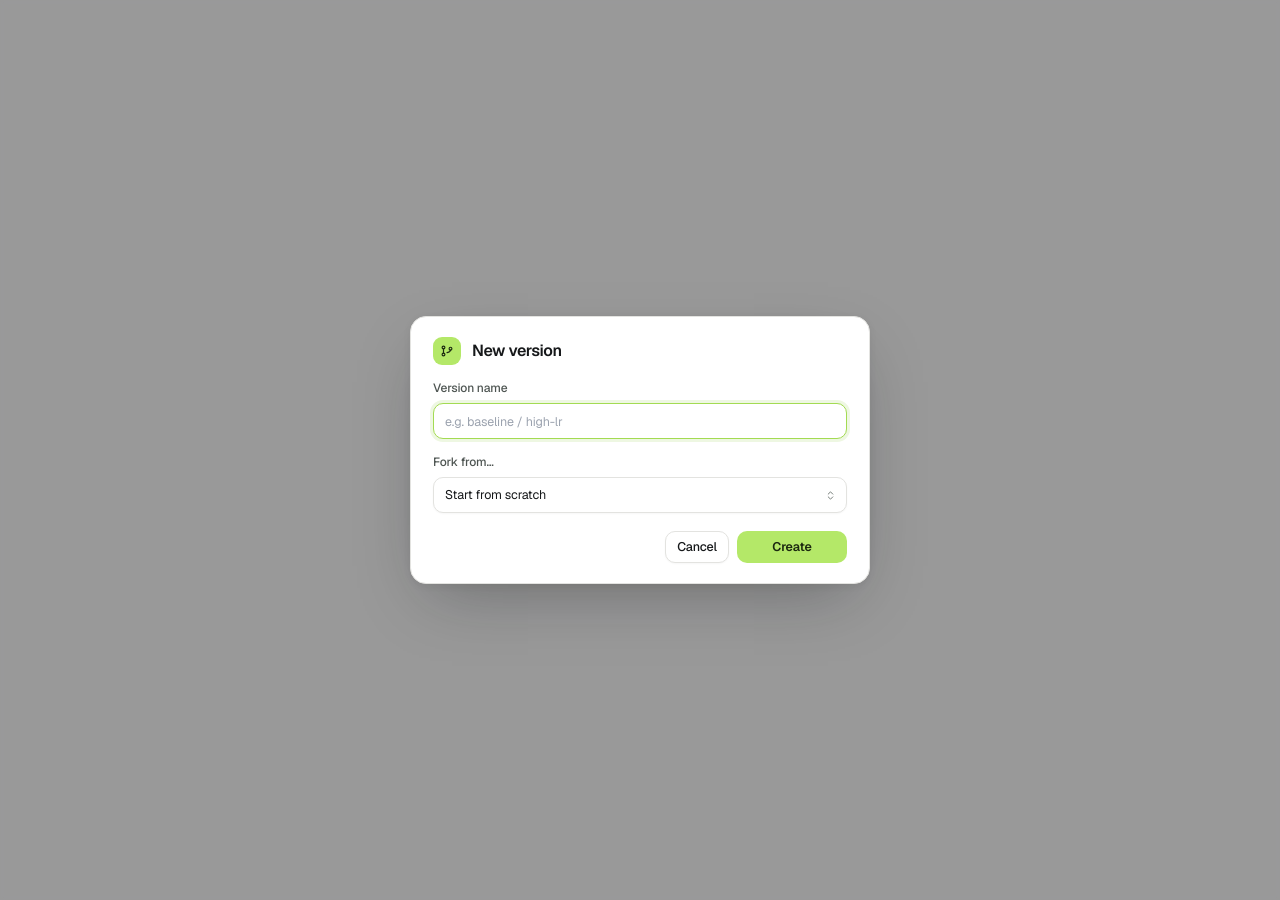
NewVersionDialog (PP10.1) › rejects duplicate label
Type "baseline" into the field with placeholder "e.g. baseline / high-lr".
click(640, 421); type("baseline")  # box [433,403,847,439]
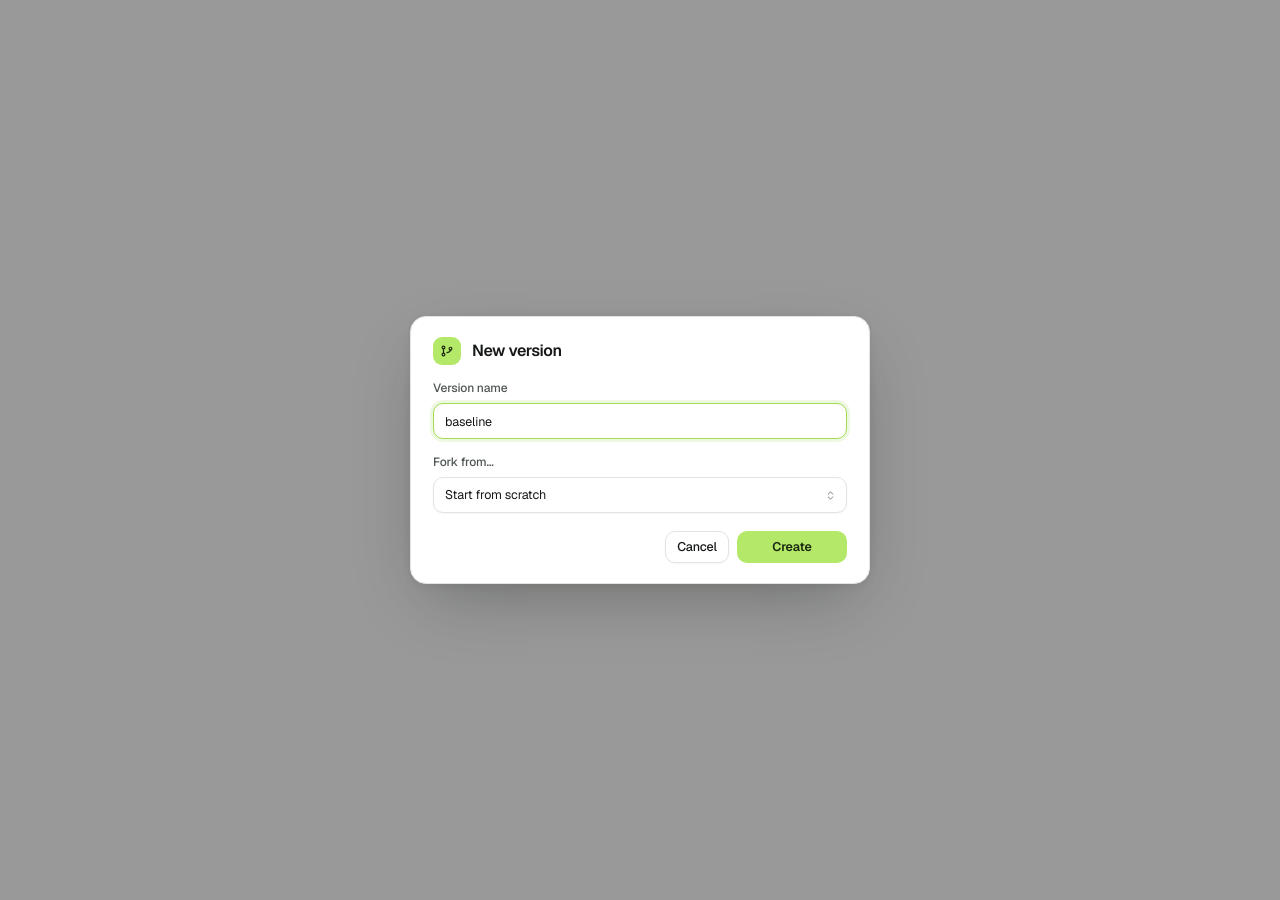
Click the button "Create".
click(792, 547)  # box [737,531,847,563]
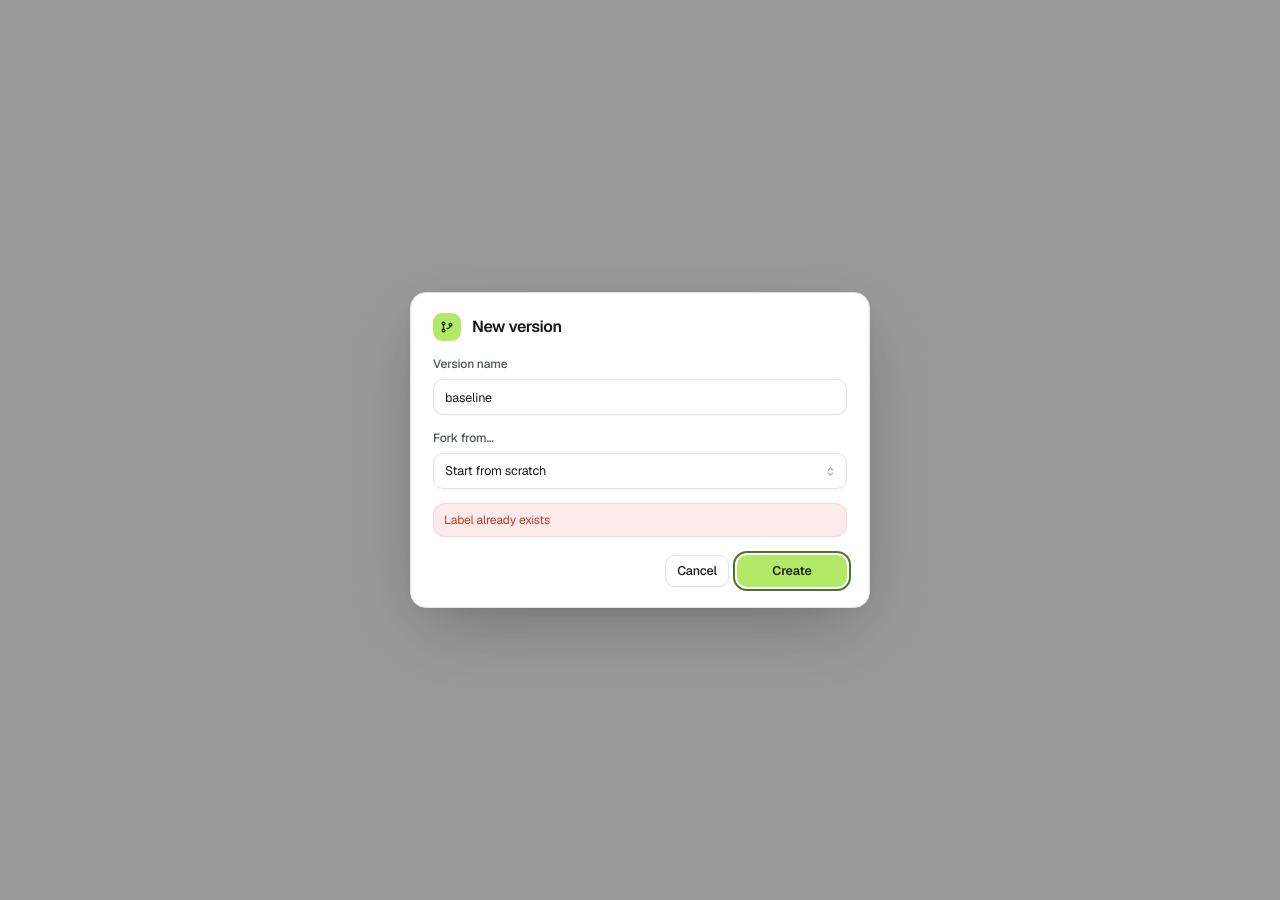
expect the text "Label already exists" is shown: met, box [433,503,847,537]
